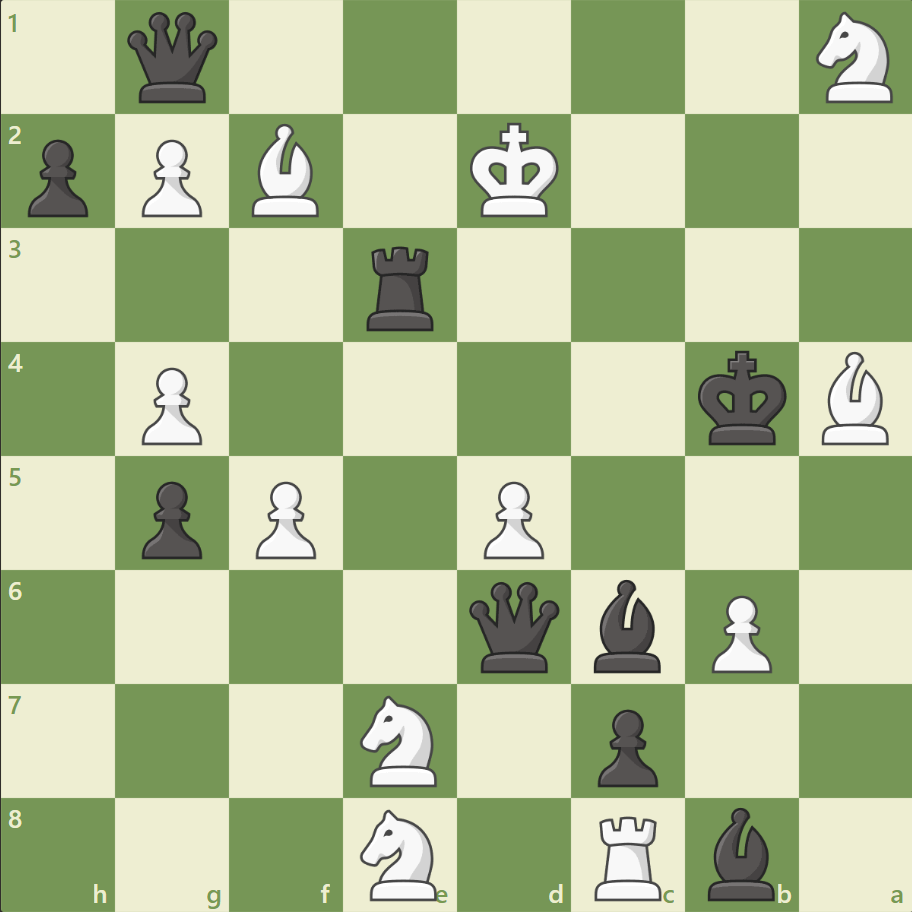B: (812, 347, 896, 449), (244, 120, 328, 222)
K: (465, 117, 565, 225)
N: (351, 688, 449, 791), (351, 802, 449, 904), (806, 7, 903, 110)
P: (701, 586, 776, 677), (474, 473, 549, 564), (247, 473, 322, 564), (133, 359, 208, 450), (133, 132, 208, 223)
R: (587, 806, 670, 904)
b: (698, 801, 782, 904), (585, 574, 669, 676)
k: (692, 344, 792, 452)
p: (133, 473, 208, 564), (20, 132, 95, 223), (588, 700, 662, 791)
q: (464, 576, 563, 676), (124, 9, 223, 108)
r: (360, 239, 442, 336)
